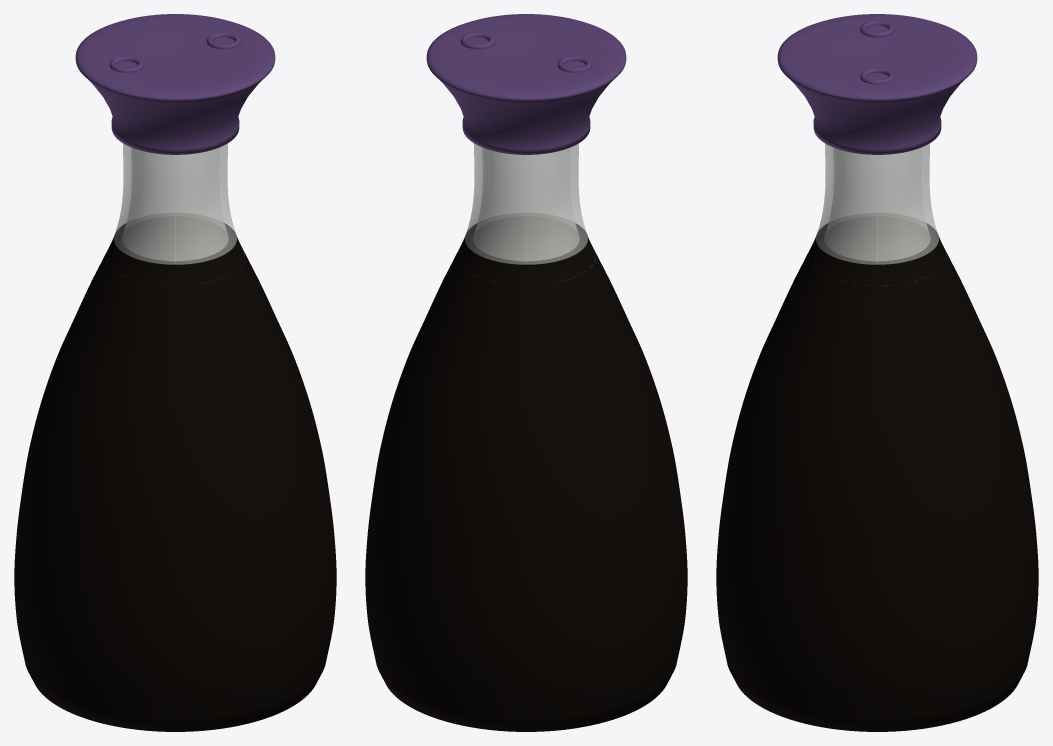
Rendered from sojasaucen-flasche_V6.glb.
3 views of the same model, side by side, from view 1: azimuth 30°, elevation 25°; view 2: azimuth 150°, elevation 25°; view 3: azimuth 270°, elevation 25° (orthographic).
Visible parts, largest first — view 1: bottle_body, cap, bottle_neck; view 2: bottle_body, cap, bottle_neck; view 3: bottle_body, cap, bottle_neck.
Boxes of the visible parts, box(x1,y1,x2,y2) form: bottle_body: box(14, 216, 336, 731); cap: box(75, 14, 275, 154); bottle_neck: box(107, 143, 236, 280); bottle_body: box(365, 216, 687, 731); cap: box(426, 14, 626, 154); bottle_neck: box(457, 143, 595, 280); bottle_body: box(716, 216, 1038, 731); cap: box(777, 14, 977, 154); bottle_neck: box(808, 143, 946, 280).
Bounding box in the file's own units: 0.0662 × 0.1417 × 0.0662.
